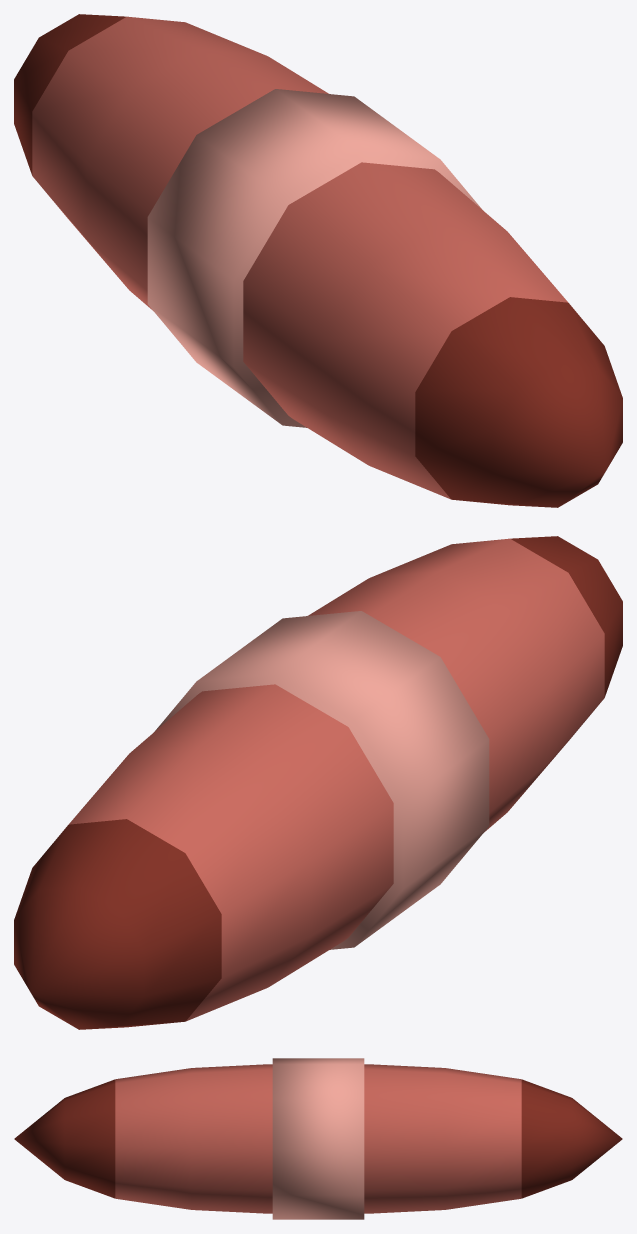
Rendered from newshf-171-f3.glb.
3 renders of one model, top to bottom at view 1: azimuth 30°, elevation 25°; view 2: azimuth 150°, elevation 25°; view 3: azimuth 270°, elevation 25°, orthographic. The views are drawn at different scales.
Parts seen in each view (by area): view 1: newshf-171-f3; view 2: newshf-171-f3; view 3: newshf-171-f3.
Part boxes in pixels (x1,y1,x2,y2): newshf-171-f3: [14, 14, 622, 507]; newshf-171-f3: [14, 536, 622, 1029]; newshf-171-f3: [14, 1058, 622, 1219].
Bounding box in the file's own units: 0.2568 × 0.27 × 1.
